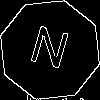N: (25, 25, 72, 79)
